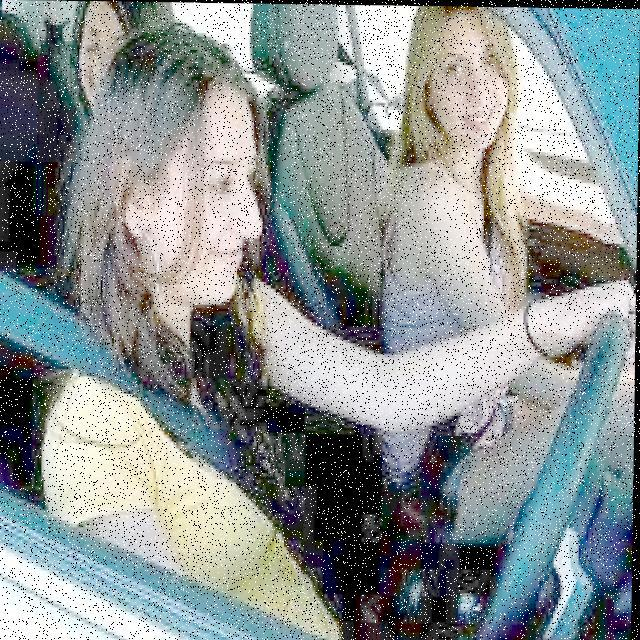seatbelt: (52, 244, 332, 636)
